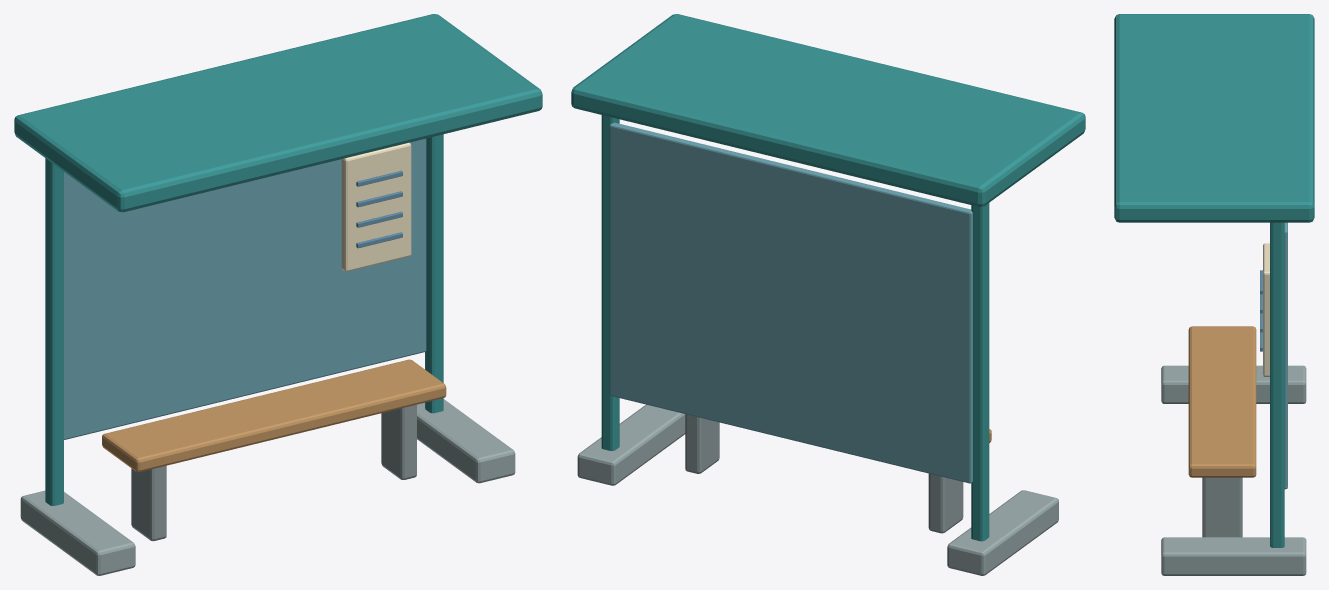
The model's file is S056_bus_shelter.glb.
The picture shows the model from 3 angles, left to right: view 1: azimuth 30°, elevation 25°; view 2: azimuth 150°, elevation 25°; view 3: azimuth 270°, elevation 25°; orthographic projection. The views are drawn at different scales.
Parts seen in each view (by area): view 1: rear_fake_glass, shelter_roof, bench_seat, route_board, shelter_upright, shelter_foot, shelter_foot.001, shelter_upright.001, bench_leg, bench_leg.001; view 2: rear_fake_glass, shelter_roof, shelter_upright, shelter_foot, shelter_foot.001, shelter_upright.001, bench_leg, bench_leg.001; view 3: shelter_roof, bench_seat, shelter_foot.001, shelter_upright.001, bench_leg.001, shelter_foot, rear_fake_glass, route_board.
Boxes of the visible parts, box(x1,y1,x2,y2) form: rear_fake_glass: box(64, 138, 426, 439); shelter_roof: box(14, 14, 542, 212); bench_seat: box(102, 359, 446, 472); route_board: box(341, 142, 411, 271); shelter_upright: box(45, 158, 63, 505); shelter_foot: box(20, 490, 135, 575); shelter_foot.001: box(417, 399, 515, 483); shelter_upright.001: box(425, 134, 443, 413); bench_leg: box(131, 465, 166, 541); bench_leg.001: box(381, 404, 416, 479); rear_fake_glass: box(609, 122, 972, 483); shelter_roof: box(571, 14, 1085, 206); shelter_upright: box(971, 203, 989, 541); shelter_foot: box(947, 490, 1058, 575); shelter_foot.001: box(577, 404, 685, 485); shelter_upright.001: box(601, 115, 619, 450); bench_leg: box(928, 473, 963, 533); bench_leg.001: box(685, 414, 719, 473); shelter_roof: box(1114, 14, 1314, 222); bench_seat: box(1188, 326, 1256, 477); shelter_foot.001: box(1161, 537, 1306, 575); shelter_upright.001: box(1270, 222, 1284, 547); bench_leg.001: box(1202, 477, 1242, 537); shelter_foot: box(1161, 365, 1306, 403); rear_fake_glass: box(1284, 222, 1287, 489); route_board: box(1263, 243, 1269, 376).
Bounding box in the file's own units: 2.82 × 2.56 × 1.24.
